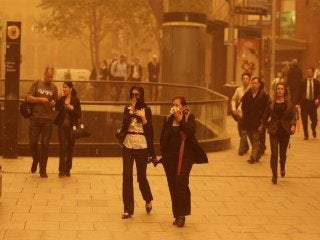person: (159, 94, 197, 228), (118, 84, 153, 220), (27, 64, 58, 179), (55, 79, 81, 178)
